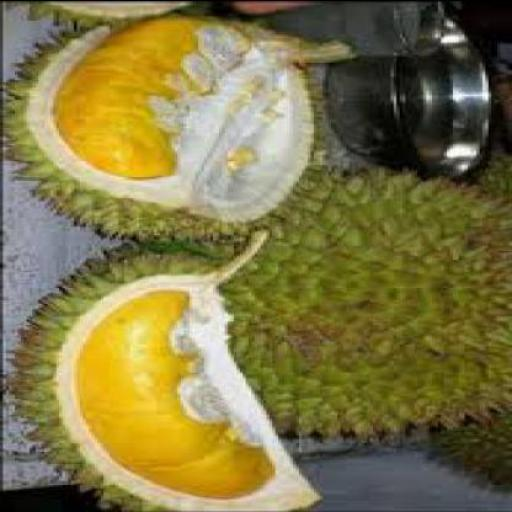biodegradable: (183, 167, 511, 447), (2, 231, 330, 511), (3, 12, 361, 246), (77, 290, 281, 500), (50, 12, 260, 181), (432, 406, 511, 495), (4, 2, 213, 31), (476, 152, 511, 206)
glass: (245, 2, 450, 58)
metal: (325, 20, 497, 177)
